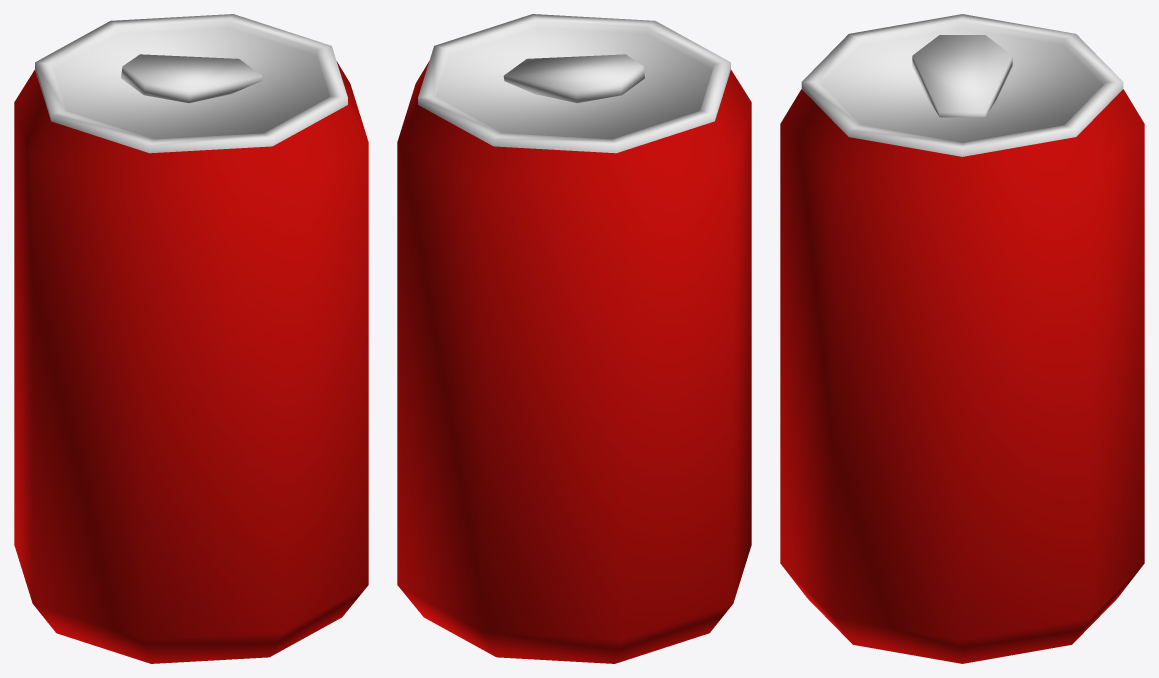
Rendered from Beer_Can.fbx.
3 renders of one model, left to right at view 1: azimuth 30°, elevation 25°; view 2: azimuth 150°, elevation 25°; view 3: azimuth 270°, elevation 25°, orthographic.
Parts seen in each view (by area): view 1: Can; view 2: Can; view 3: Can.
Part boxes in pixels (x1,y1,x2,y2): Can: (14,14,368,663); Can: (397,14,751,663); Can: (780,14,1144,663).
Size of the model in its own units: 200 by 324 by 200.
